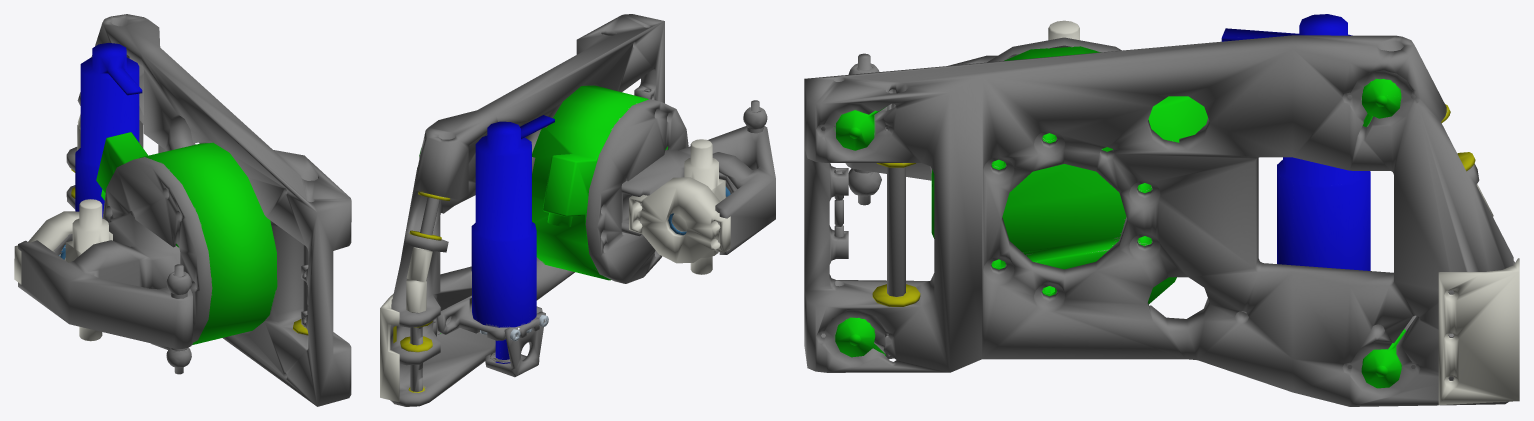
Rendered from legr_ank2_joint.obj.
3 renders of one model, left to right at view 1: azimuth 30°, elevation 25°; view 2: azimuth 150°, elevation 25°; view 3: azimuth 270°, elevation 25°, orthographic. The views are drawn at different scales.
Size of the model in its own units: 0.1144 by 0.12 by 0.2255.
1 material, 1 textured.
